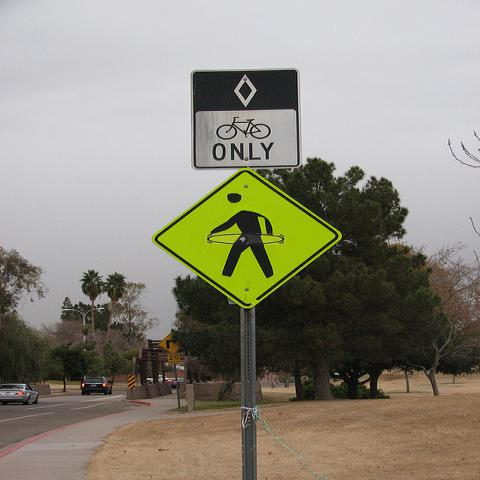car: (0, 382, 40, 405), (165, 377, 190, 389), (331, 372, 351, 378)
truck: (80, 375, 114, 394), (146, 374, 168, 384)
